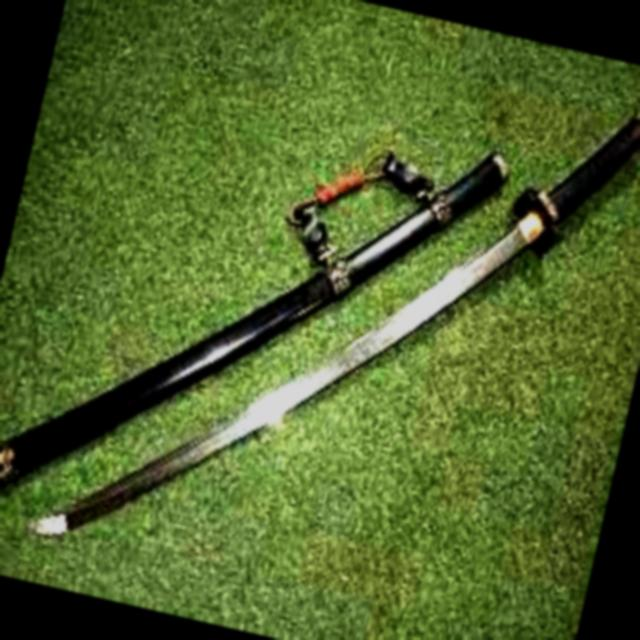long sword: (25, 0, 640, 640)
